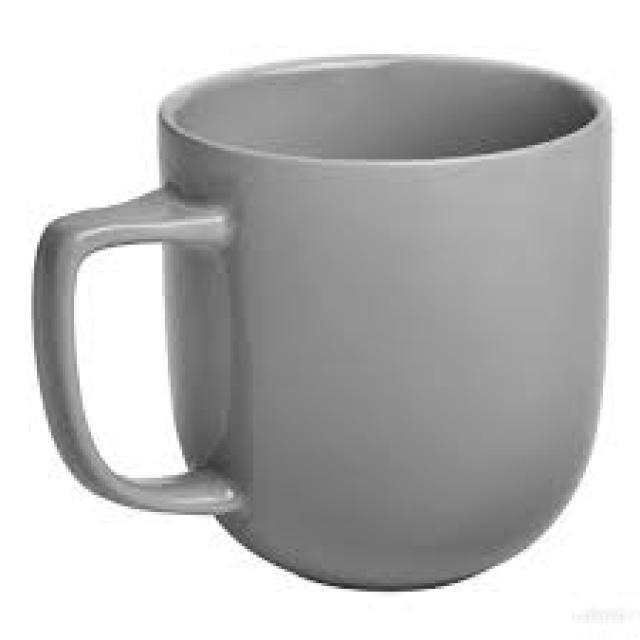taza: (33, 51, 608, 591)
